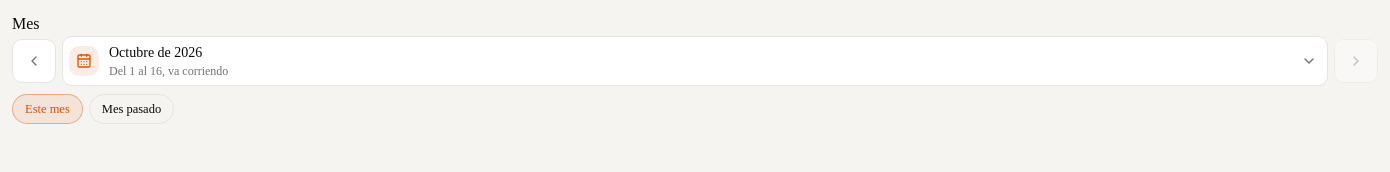
CampoMes › ‹ pasa al mes anterior y lo envía en el formulario
Click the button named "Mes anterior" at coordinates (34, 61), box x1=12 y1=39 x2=56 y2=83
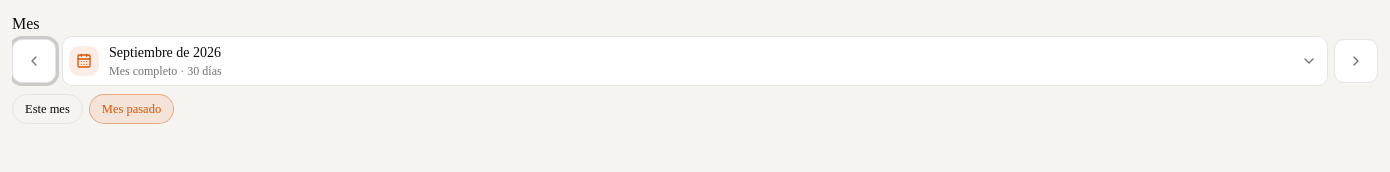
Now the text "Mes completo · 30 días" is shown, box x1=109 y1=64 x2=222 y2=78
